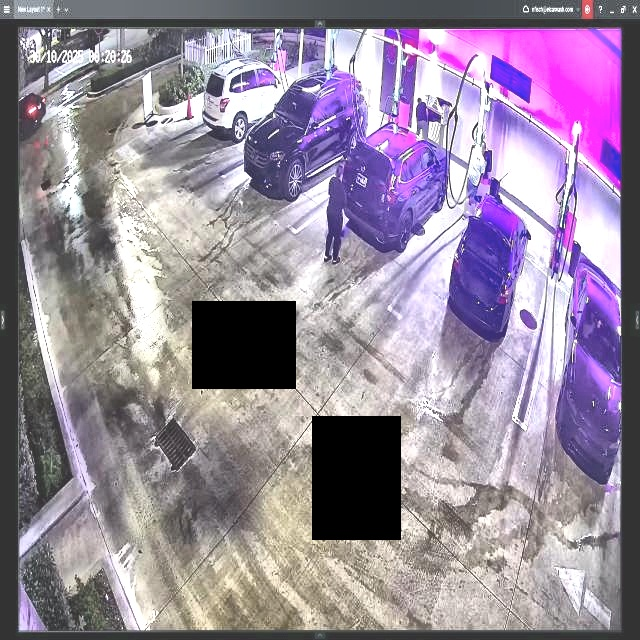Car: (245, 68, 365, 199), (339, 127, 448, 252), (449, 190, 530, 337)
